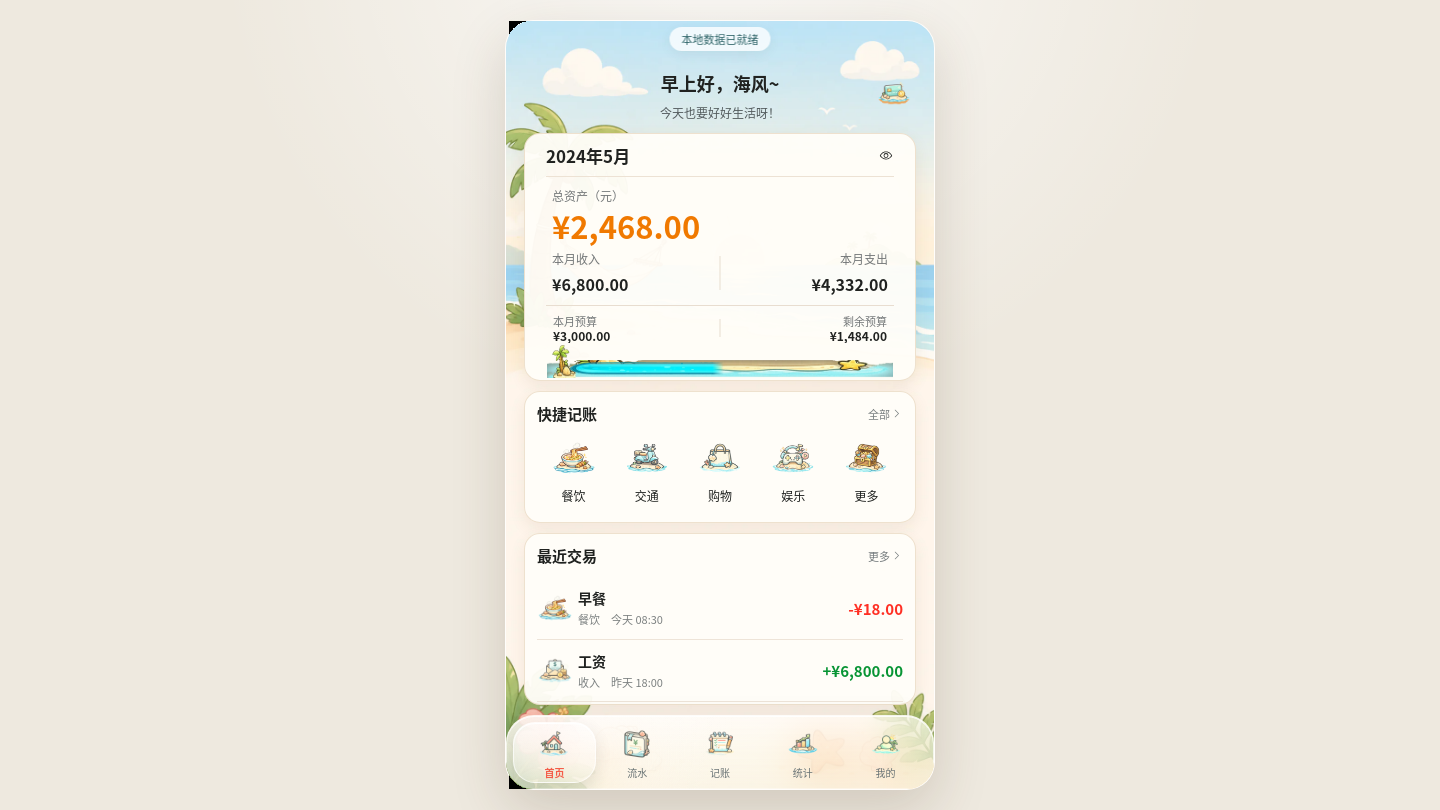
Test: reference five-page application › hides asset-account amounts independently from the home balance
Click the button named "查看资产账户" at x=894, y=92, box [872, 70, 916, 114]
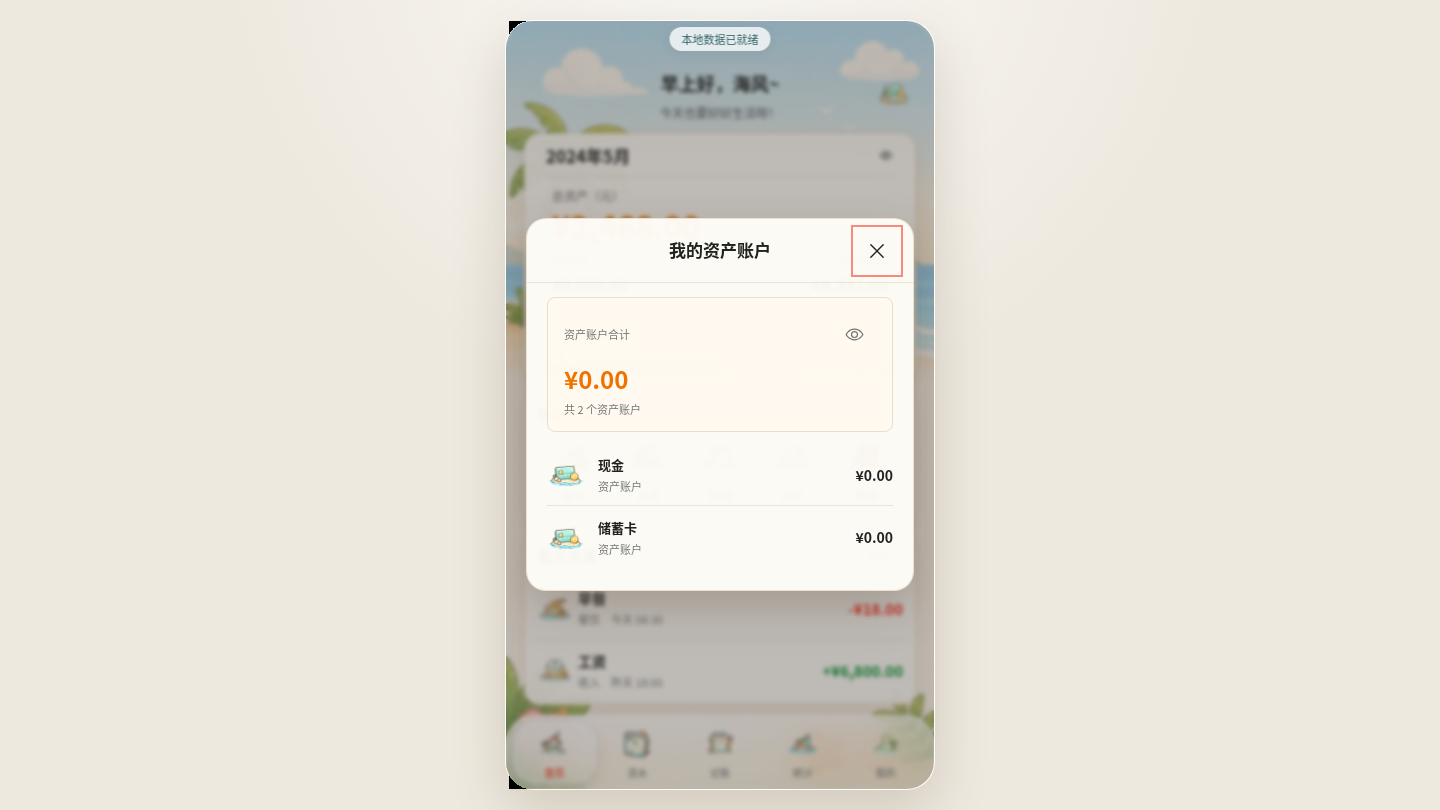
Click the button named "隐藏资产账户金额" at x=854, y=334, box [832, 312, 876, 356]
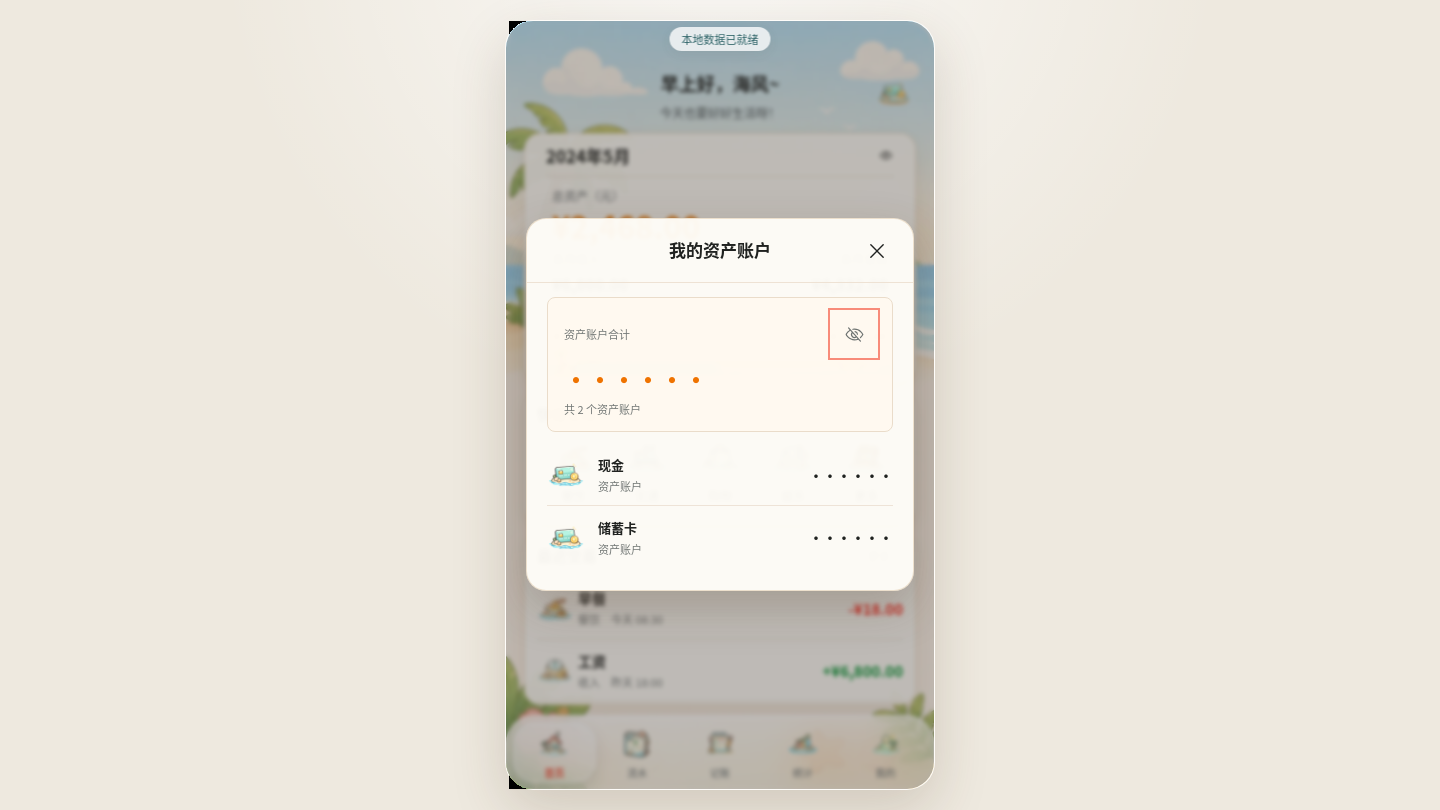
Check: the text "¥2,468.00" is shown, box [552, 203, 700, 248]
Check: the text "¥0.00" is gone
